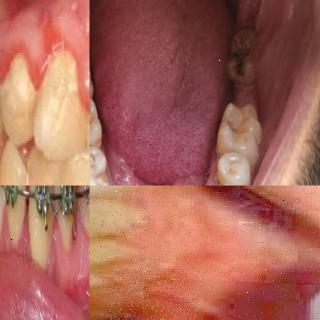Gum Swelling: (0, 41, 90, 95)
calculus: (35, 43, 72, 109), (1, 49, 33, 112), (211, 144, 229, 172), (207, 166, 231, 186), (92, 161, 110, 185)
cavities: (230, 38, 254, 82)
maligned: (39, 44, 89, 154), (0, 142, 25, 186), (61, 147, 89, 185)
stains: (90, 112, 100, 152), (90, 150, 100, 178)
